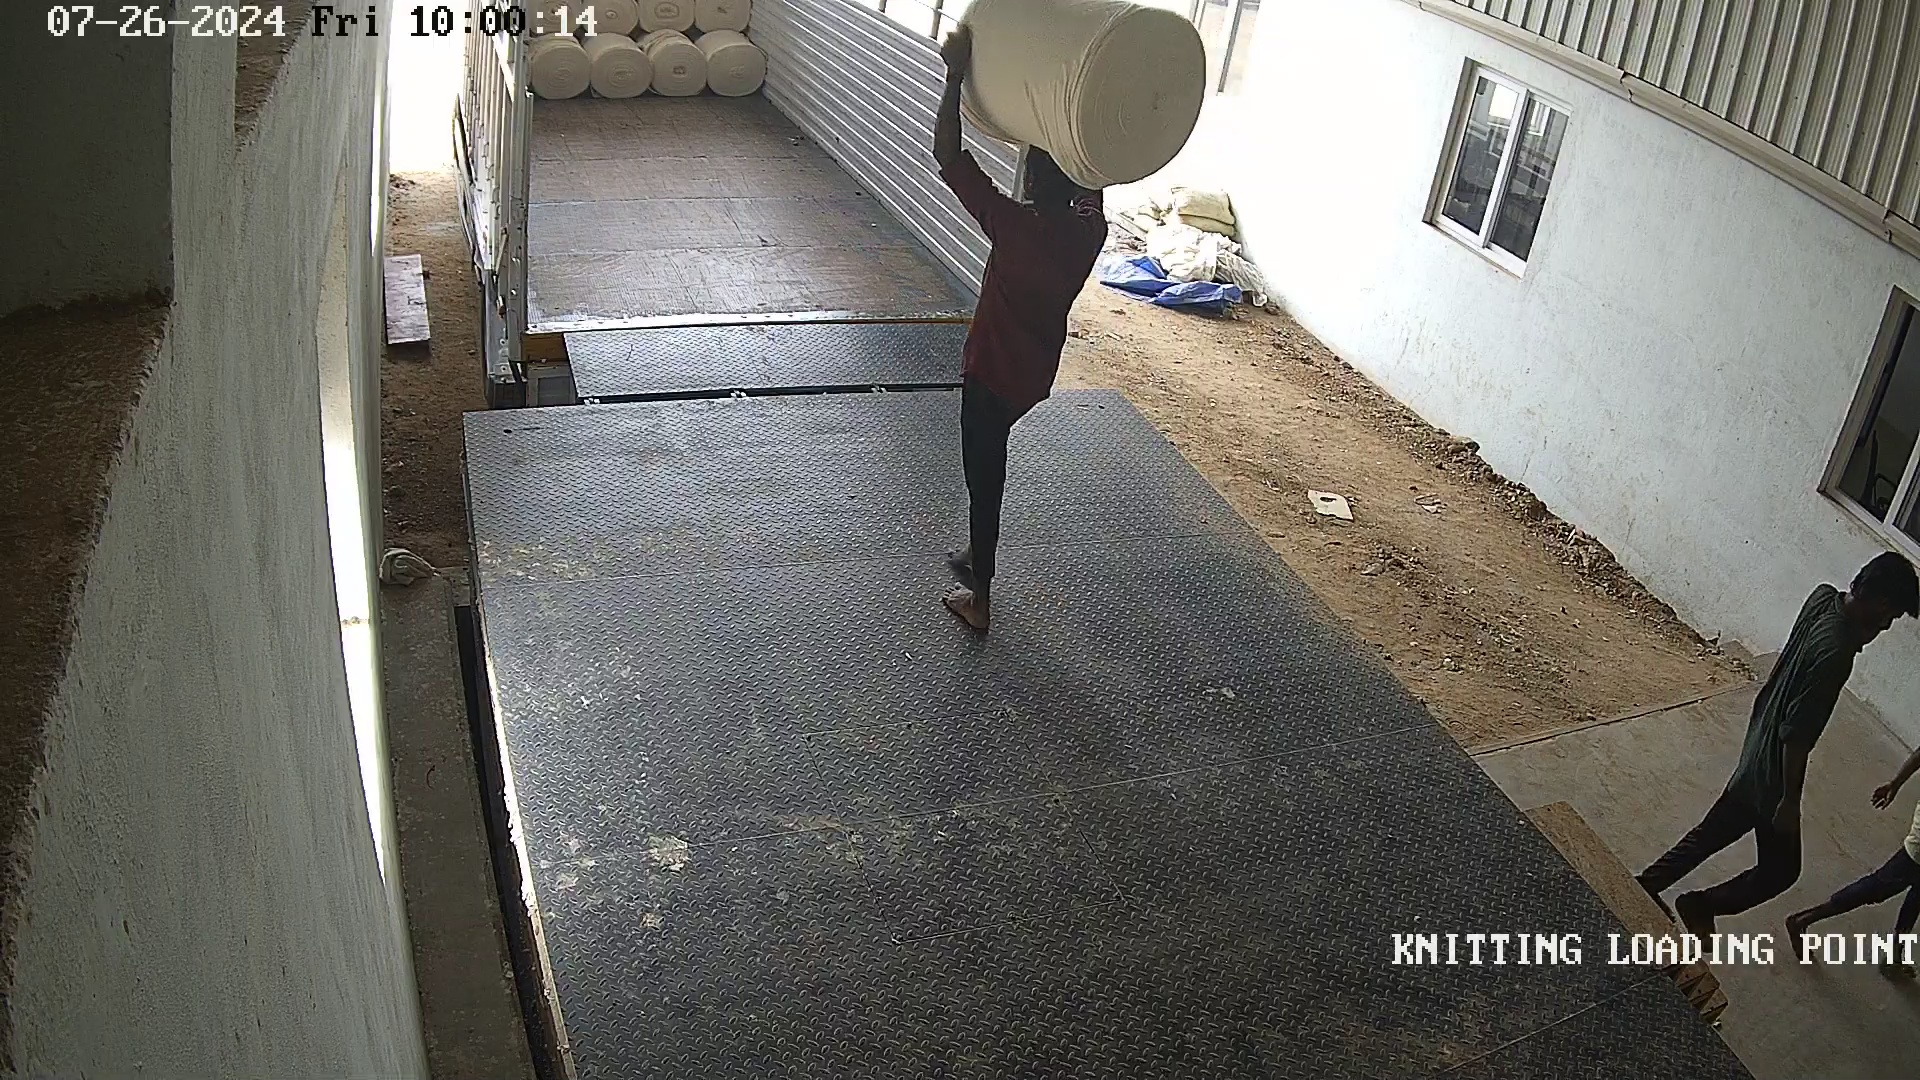bag: (914, 1, 1215, 185)
